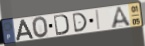A: (111, 6, 133, 30), (15, 19, 35, 41)
D: (53, 13, 70, 36), (72, 12, 89, 34)
I: (96, 9, 102, 31)
O: (31, 16, 50, 40)
